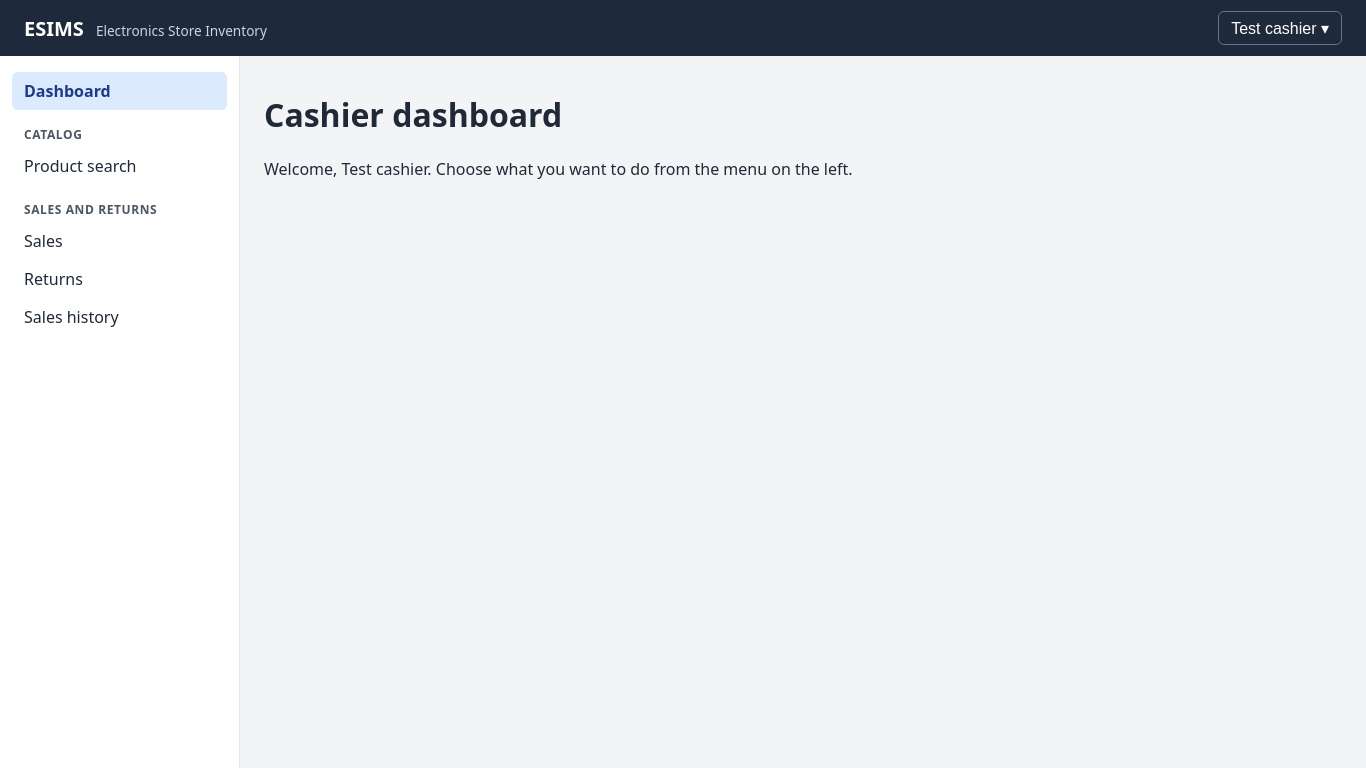
it: a menu link opens its screen
Click the link "Returns".
click(53, 279)  # box [24,268,83,290]
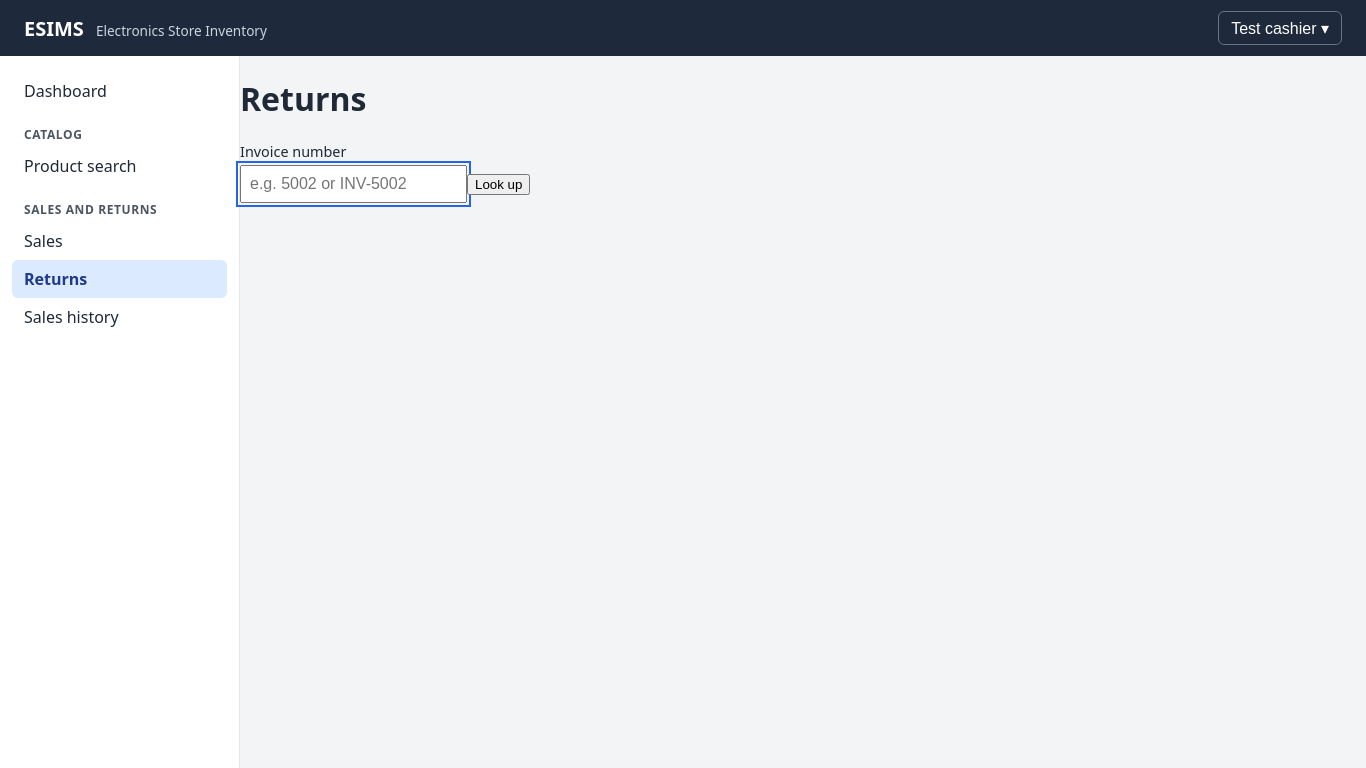
Now the heading "Returns" is shown, box [240,77,366,120]
